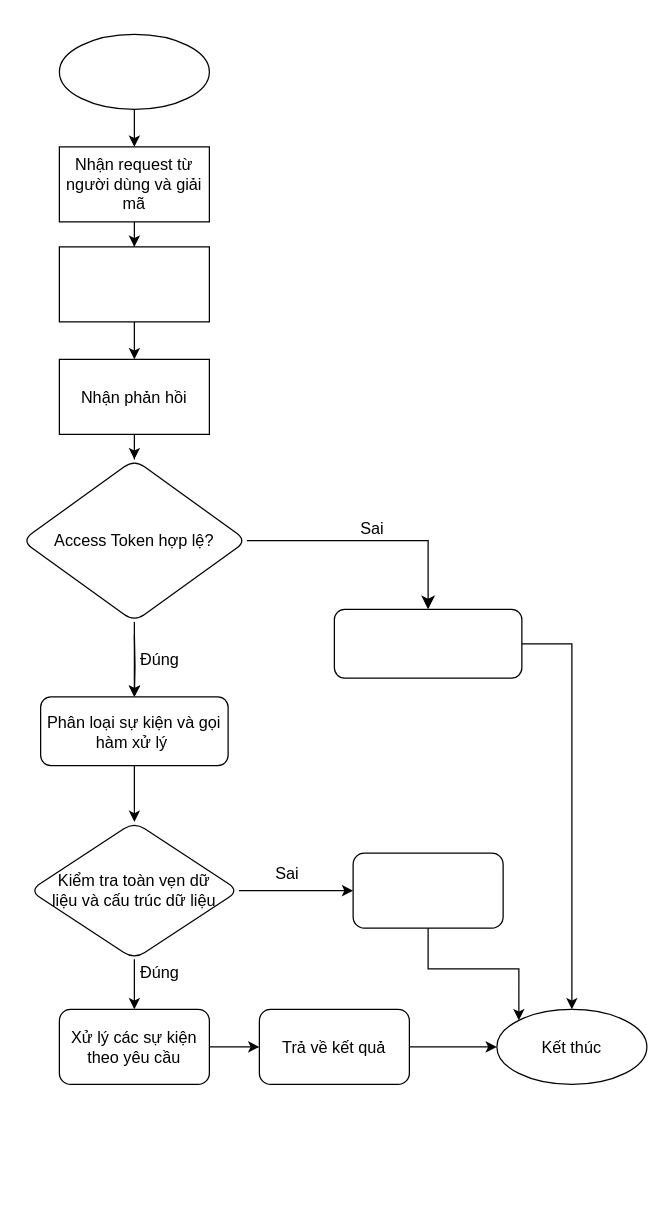
The diagram is 669 pixels wide and 1218 high, and some of its shapes have lost their labels. Here are the shapes that lost their labels. From the top down, the centre of each, then its label:
the point at 133,71: Bắt đầu
the point at 133,284: Gửi thông tin đến FireBase Server xác thực Access Token
the point at 427,643: Thông báo "Sai access token" và ngắt kết nối
the point at 427,890: Thông báo lỗi và ngắt kết nối
